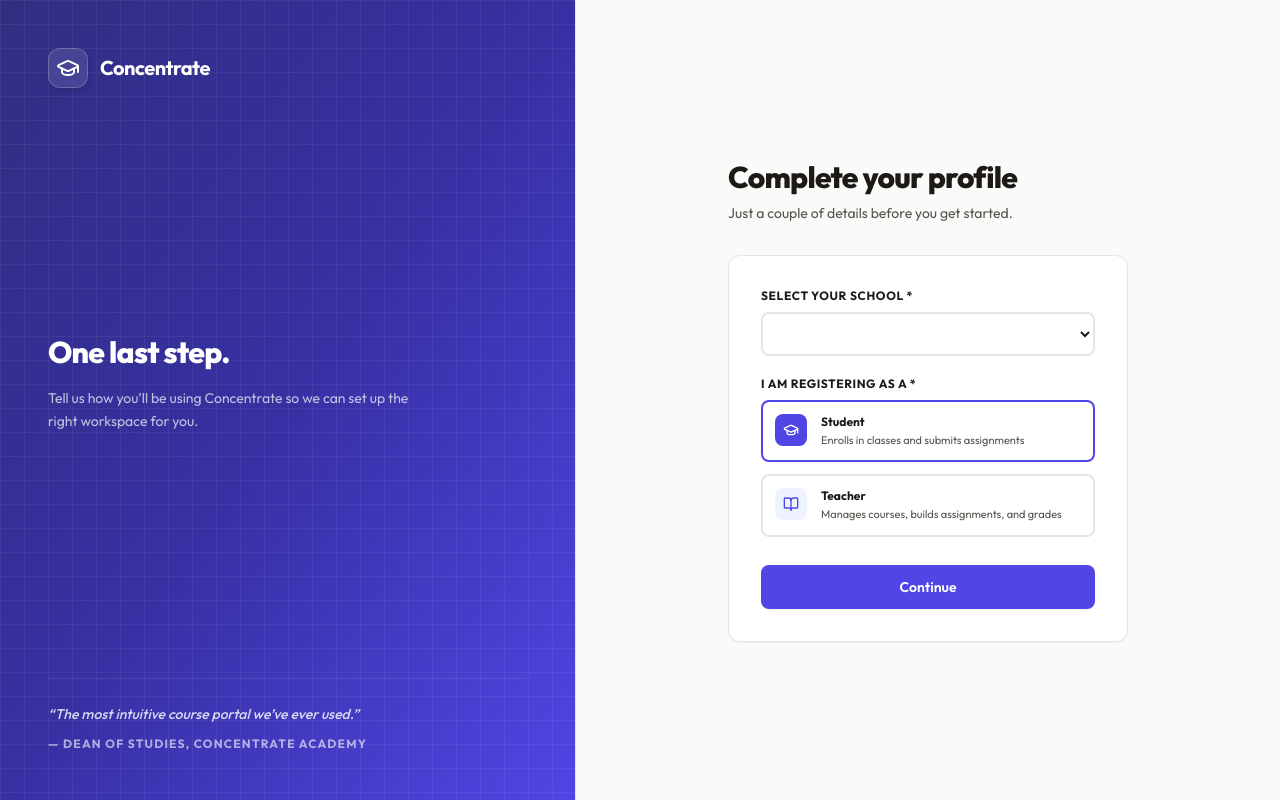
Test case: CompleteProfilePage › shows a validation error toast when no valid school is selected
Click the button "Continue".
click(928, 586)  # box [761, 564, 1095, 608]
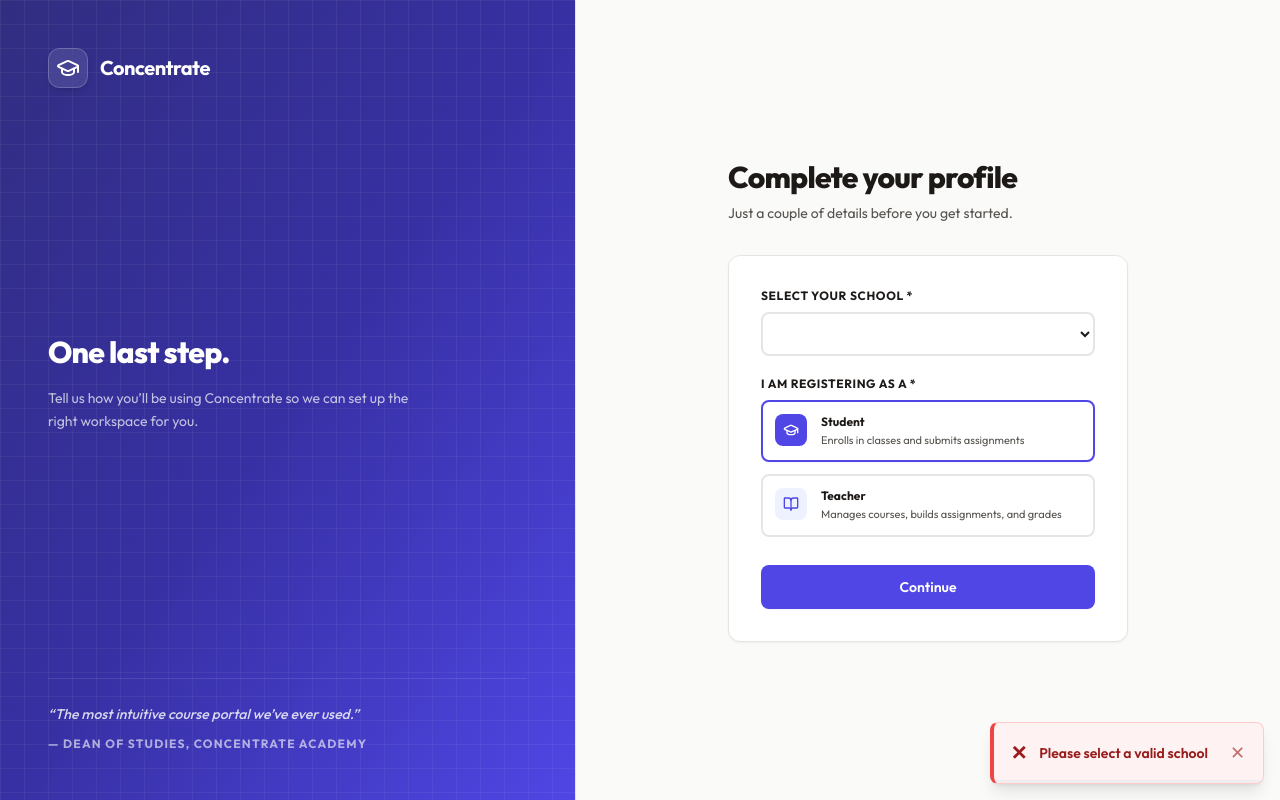
Check: the text "Please select a valid school" is shown, box [1039, 743, 1216, 763]
